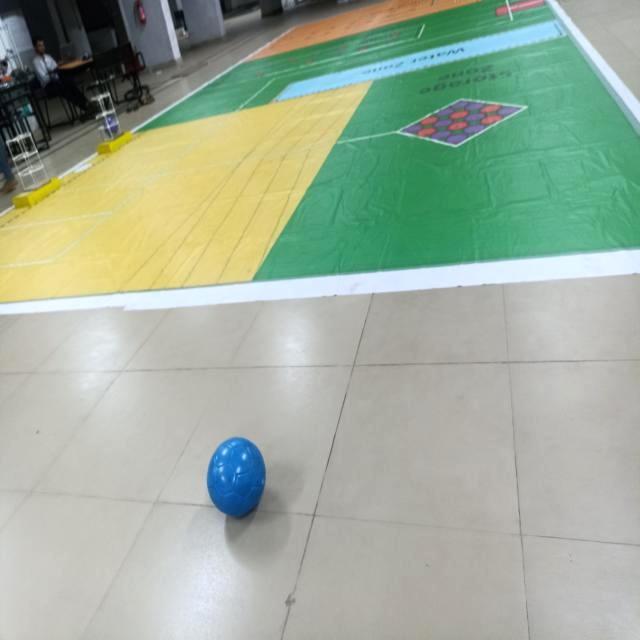blue_ball: (204, 436, 272, 527)
purple_ball: (102, 116, 122, 138)
silo: (5, 130, 50, 188), (86, 90, 125, 143)
